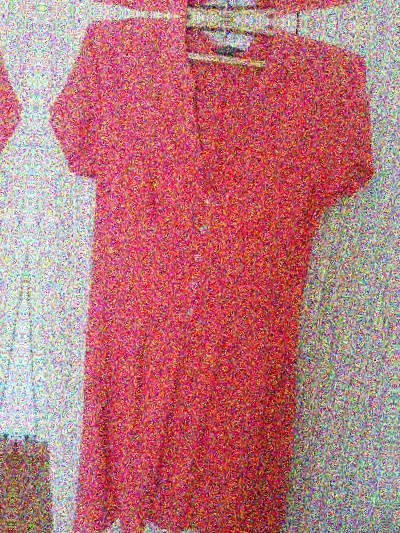Dress: (42, 20, 384, 533), (74, 0, 400, 18), (0, 0, 9, 525)
